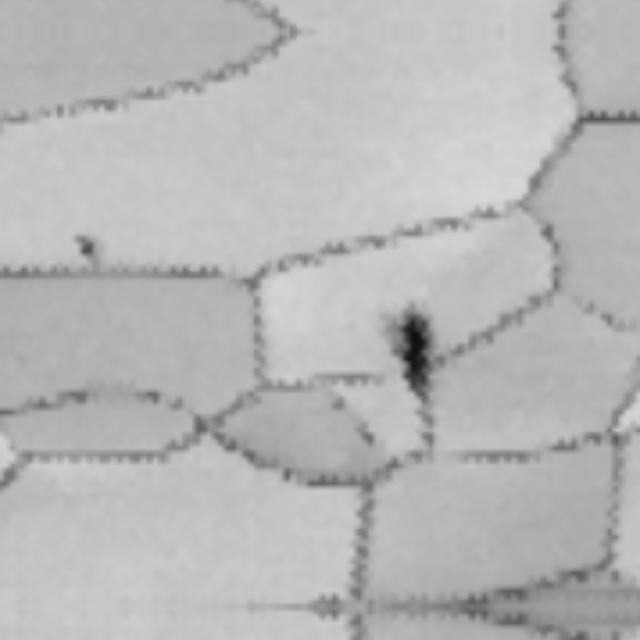good_void: (374, 293, 457, 419), (69, 227, 110, 274), (345, 416, 384, 455), (320, 386, 355, 420)
